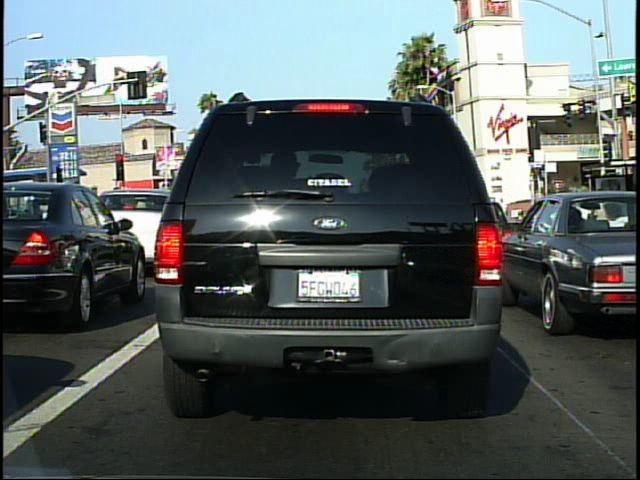person: (590, 183, 612, 252), (496, 195, 511, 227)
